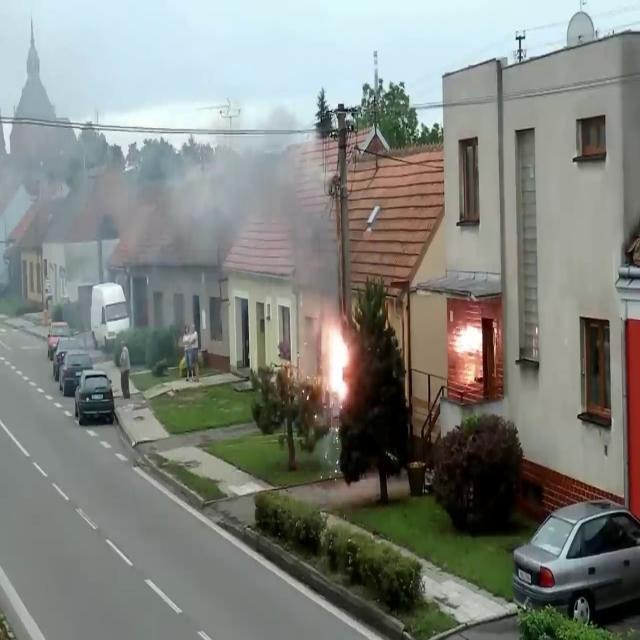Fire: (314, 311, 354, 404)
Smoke: (116, 101, 348, 316)
